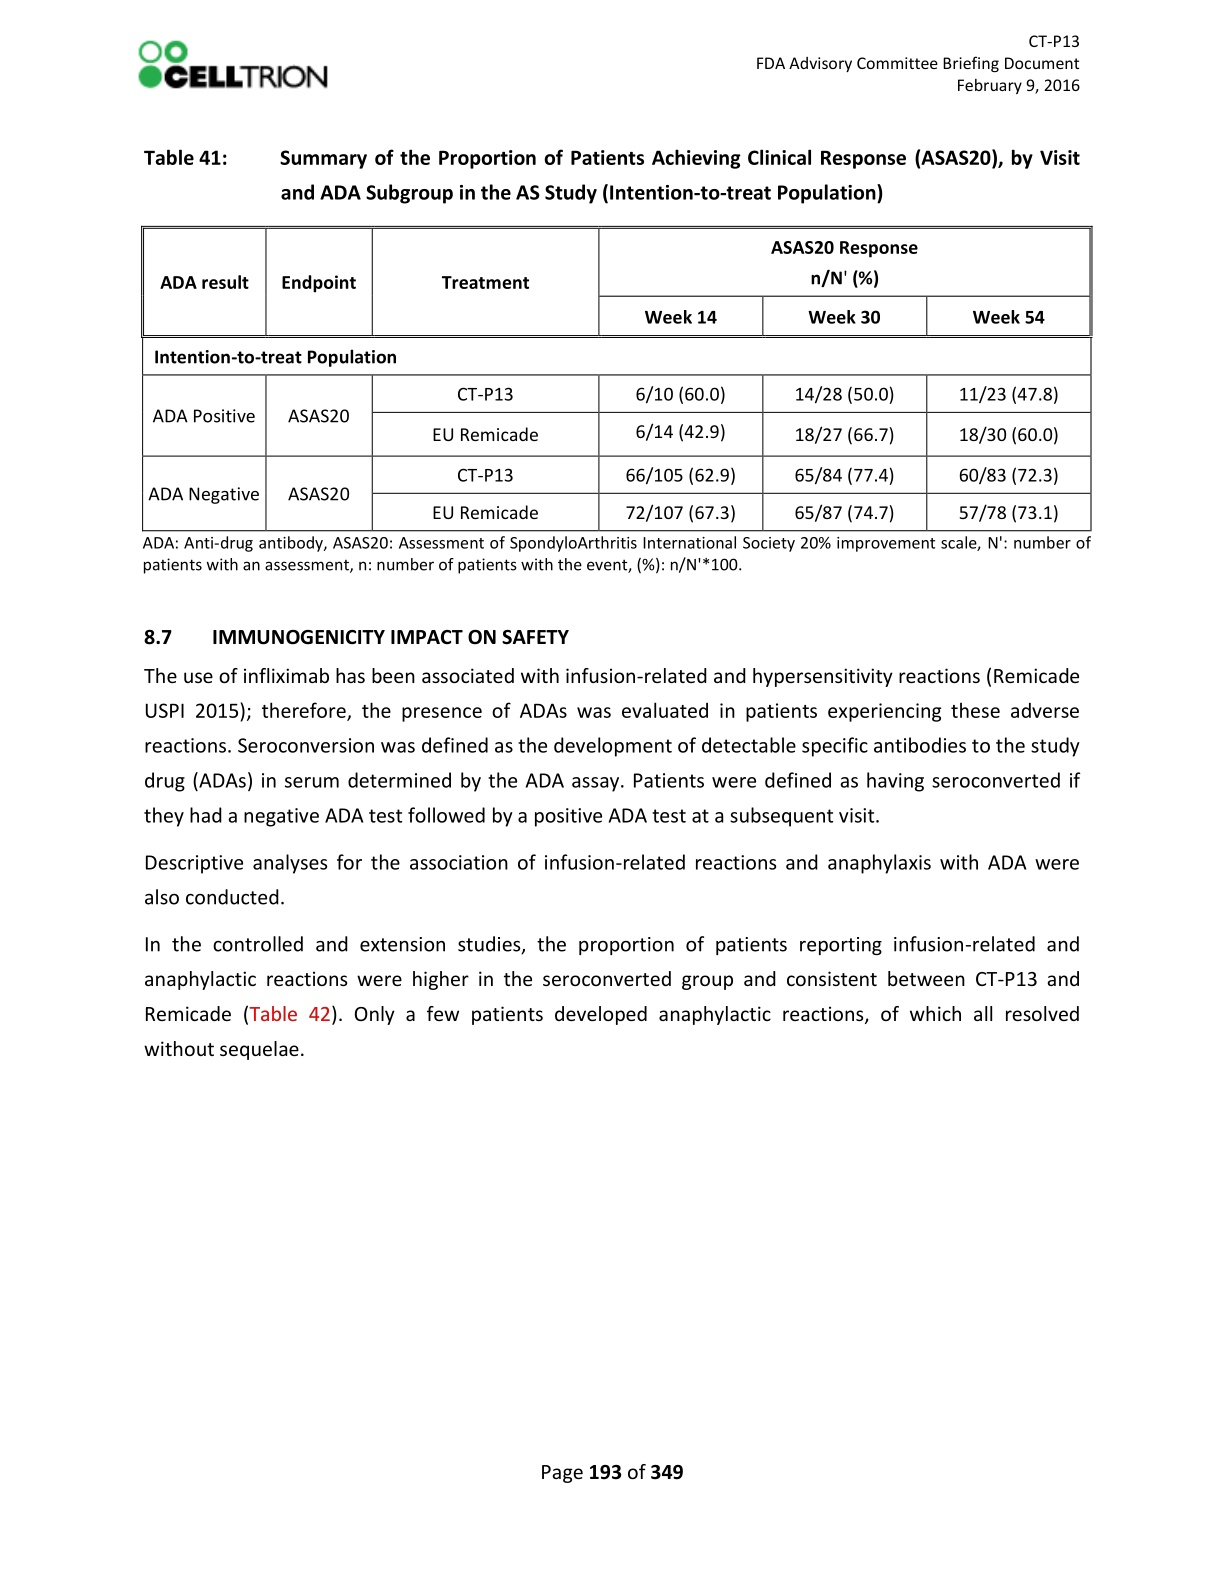merged_cells: (140, 225, 1092, 532)
